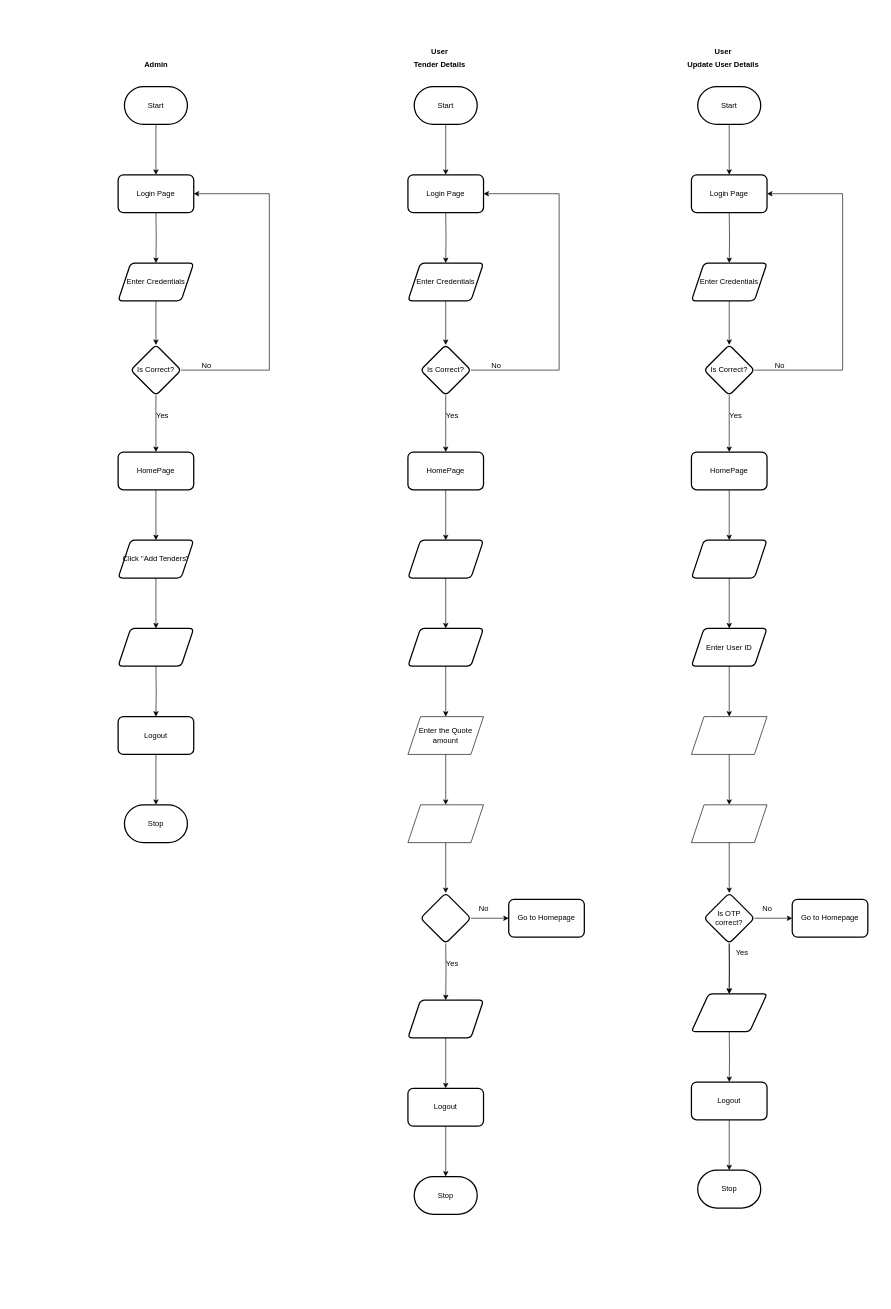
This 891x1309 diagram has some shape labels left out. Each missing label, with the centre of its shape:
Click "Bid for a Tender": pixel 445 558
Click "Change Account Details": pixel 728 558
Click Submit: pixel 445 823
Download Receipt and wait for result: pixel 445 1018
Enter Mobile Number and submit: pixel 729 735
Enter OTP and Submit: pixel 729 823
Is Submit clicked?: pixel 445 918
Provide Tender details and submit: pixel 155 647
Select a project: pixel 445 647
Update Details and Submit: pixel 728 1012
